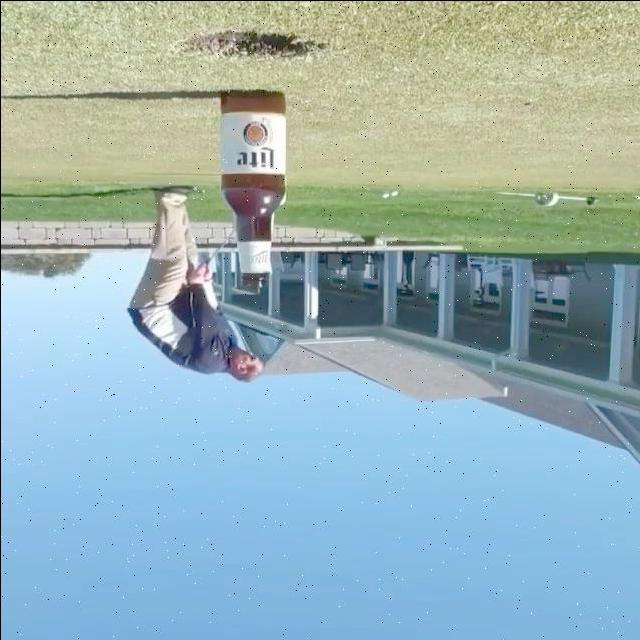ClubHandle: (205, 229, 233, 266)
